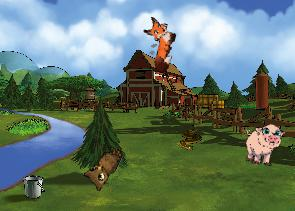fox: (134, 15, 181, 74)
owl: (79, 139, 124, 193)
pig: (241, 121, 285, 168)
